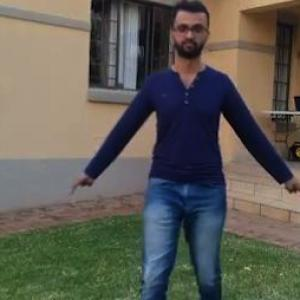land: (95, 25, 264, 299)
